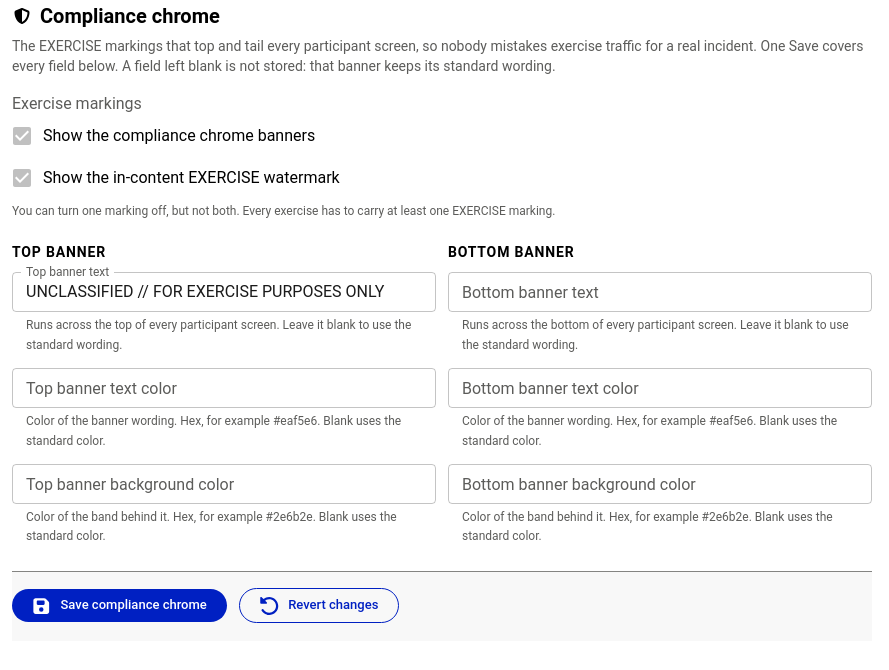
Scenario: ComplianceChromePanel — the full-replace round trip › re-renders from the SERVER response, not from local form state
The width and height of the screenshot is (889, 670).
Step 1. Replace the text in the field labelled "Top banner text" with "anything" → (224, 292), box left=12, top=272, right=436, bottom=312
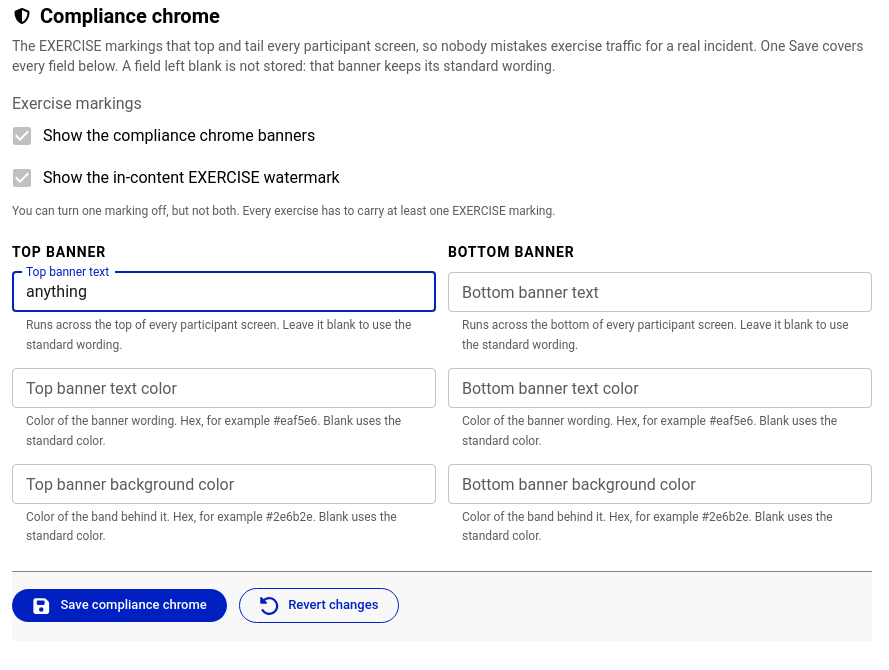
Step 2. Click the button "Save compliance chrome" → click(119, 606), box left=12, top=589, right=227, bottom=622
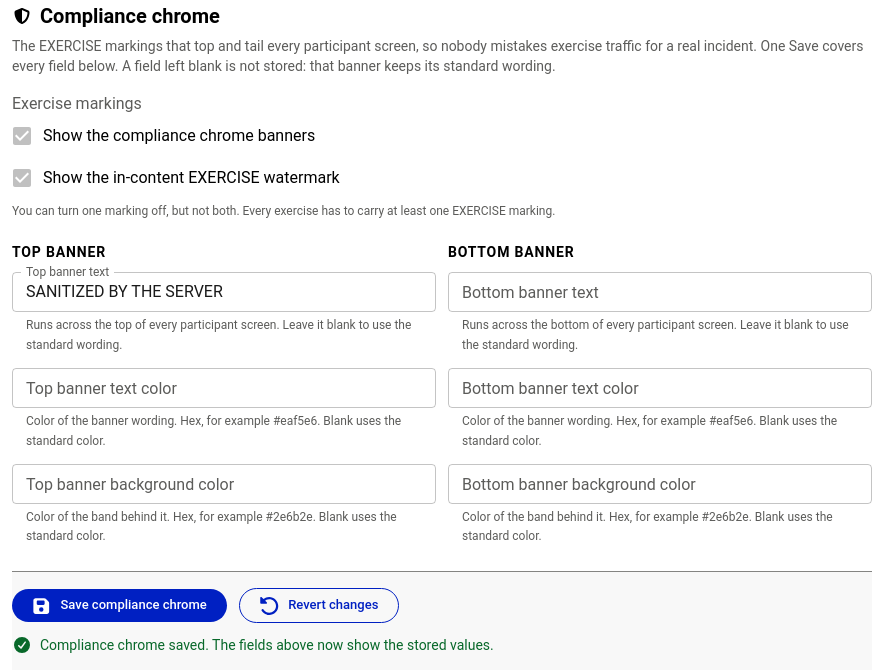
expect the message "Compliance chrome saved. The fields above now show the stored values." is shown: met, box left=12, top=637, right=494, bottom=653
expect the field labelled "Top banner text" holds "SANITIZED BY THE SERVER": met, box left=12, top=272, right=436, bottom=312
